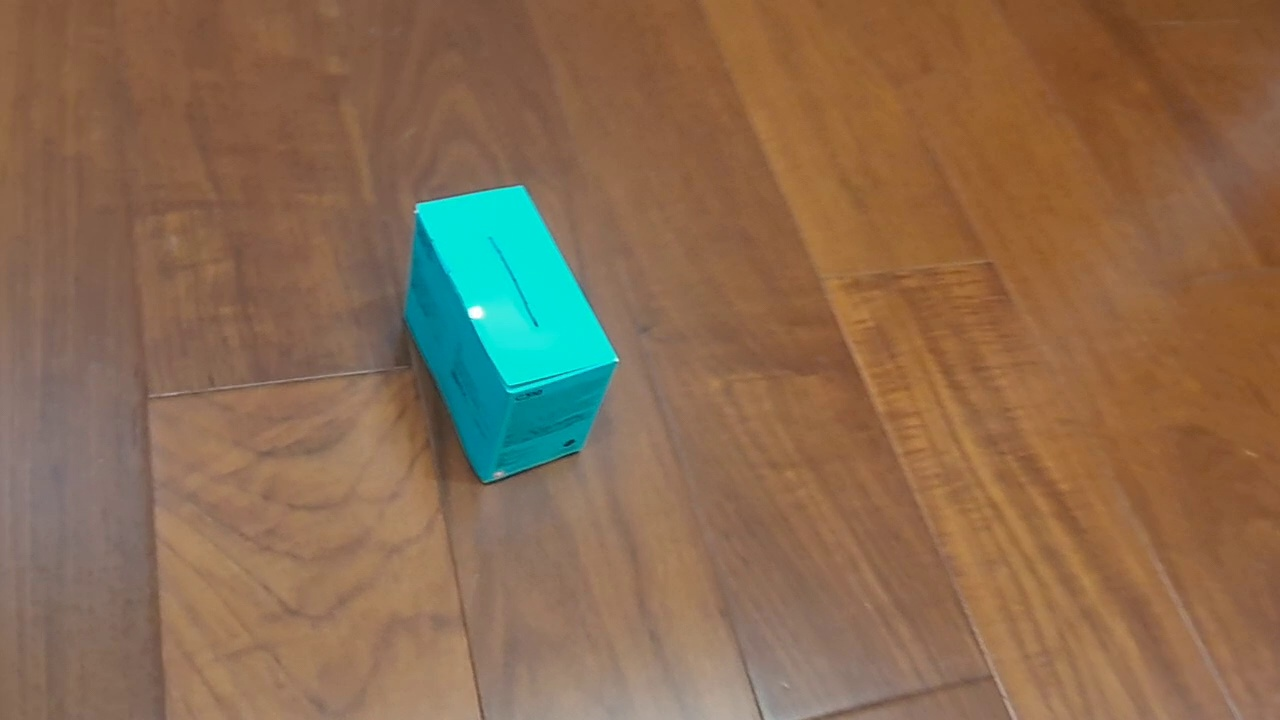webcam: (402, 184, 620, 485)
